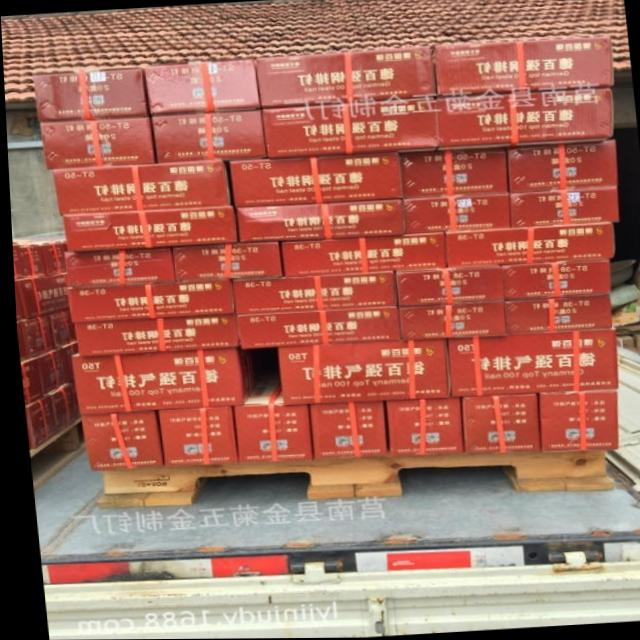box: (67, 347, 252, 416), (444, 330, 614, 398), (434, 89, 614, 153), (274, 340, 446, 406), (260, 97, 437, 160), (255, 48, 436, 108), (435, 38, 613, 98), (51, 160, 229, 216), (228, 154, 403, 207), (61, 207, 235, 252), (443, 223, 613, 268), (234, 199, 405, 243), (231, 271, 395, 316), (64, 280, 231, 324), (277, 233, 442, 277), (229, 374, 308, 464), (69, 315, 236, 357), (233, 309, 398, 350), (144, 59, 260, 116), (33, 69, 146, 123), (149, 110, 264, 163), (38, 118, 154, 170), (506, 141, 615, 193), (399, 149, 506, 199), (152, 407, 236, 466), (534, 392, 613, 453), (78, 411, 157, 471), (457, 395, 534, 455), (169, 242, 279, 283), (498, 260, 608, 301), (391, 266, 501, 307), (62, 247, 171, 288), (304, 402, 382, 459), (381, 398, 456, 457), (506, 189, 616, 229), (394, 302, 504, 341), (501, 297, 610, 335), (403, 196, 511, 234), (21, 393, 56, 448), (13, 314, 50, 362), (27, 272, 64, 316), (43, 383, 74, 431), (33, 348, 61, 396), (10, 244, 43, 279), (44, 309, 72, 349), (11, 278, 35, 322), (54, 342, 76, 390), (17, 356, 38, 404), (38, 243, 65, 276)
